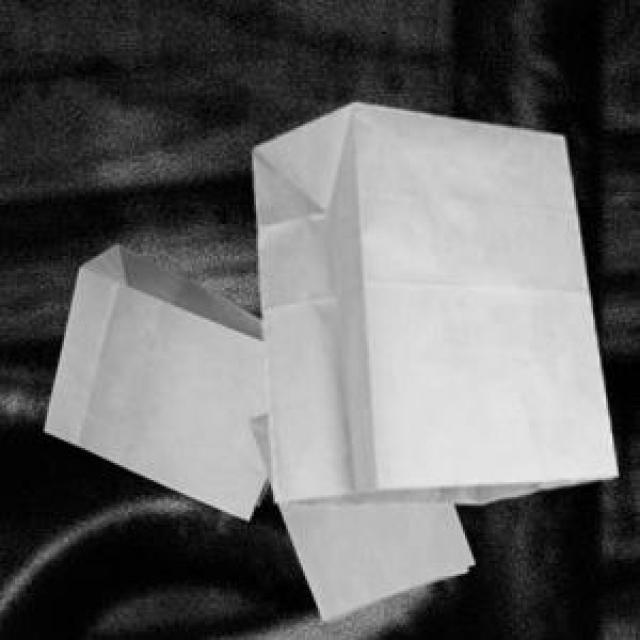paper: (250, 98, 612, 501), (41, 241, 265, 516), (243, 410, 469, 619)
